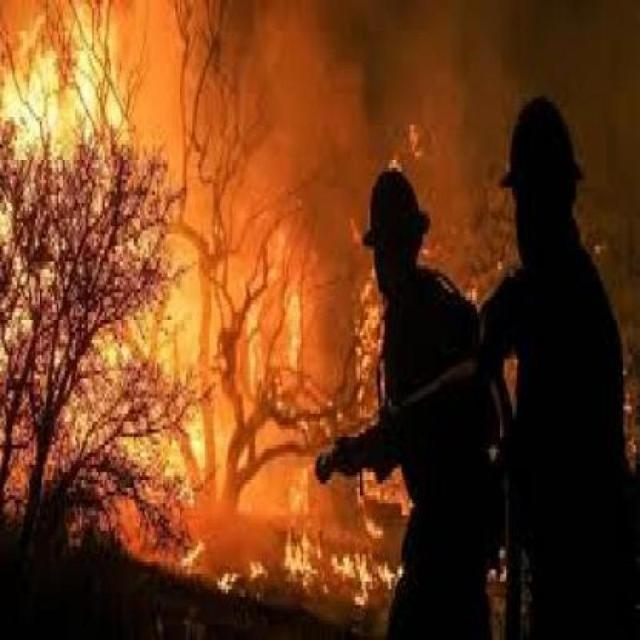Fire: (144, 184, 330, 594), (334, 517, 398, 625)
